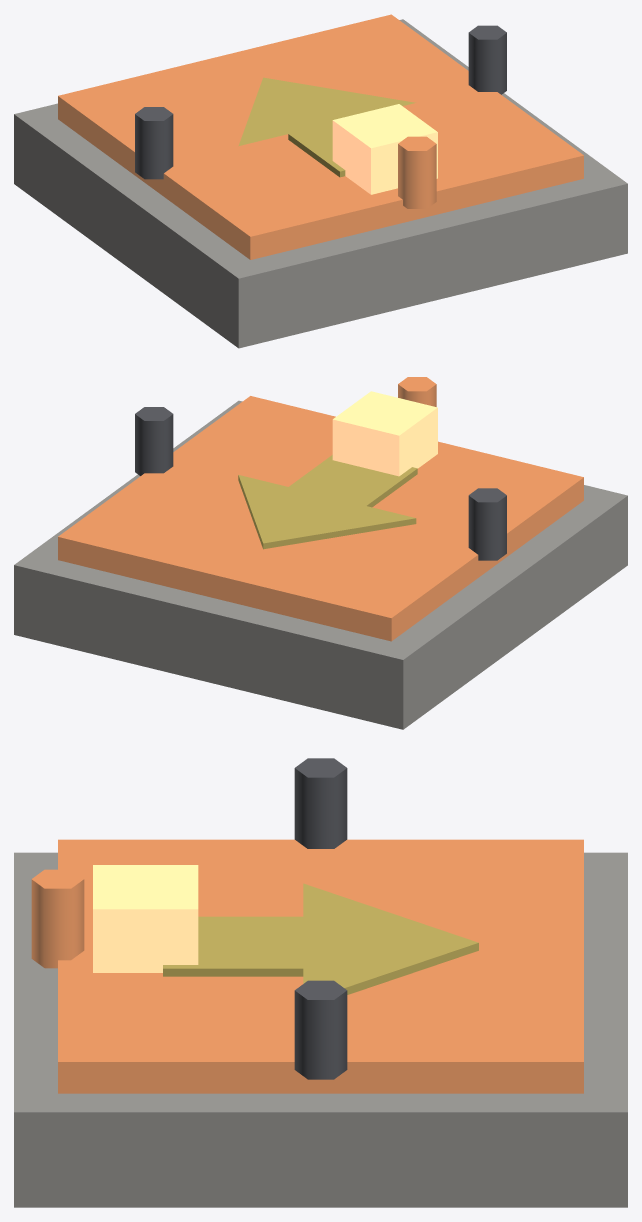
The model's file is build_gate_latch.glb.
The picture shows the model from 3 angles, top to bottom: view 1: azimuth 30°, elevation 25°; view 2: azimuth 150°, elevation 25°; view 3: azimuth 270°, elevation 25°; orthographic projection. The views are drawn at different scales.
Parts seen in each view (by area): view 1: Baked; view 2: Baked; view 3: Baked.
Boxes of the visible parts, box(x1,y1,x2,y2) form: Baked: box(14, 14, 627, 348); Baked: box(14, 377, 627, 729); Baked: box(14, 758, 627, 1207).
Bounding box in the file's own units: 0.7 × 0.25 × 0.7.
